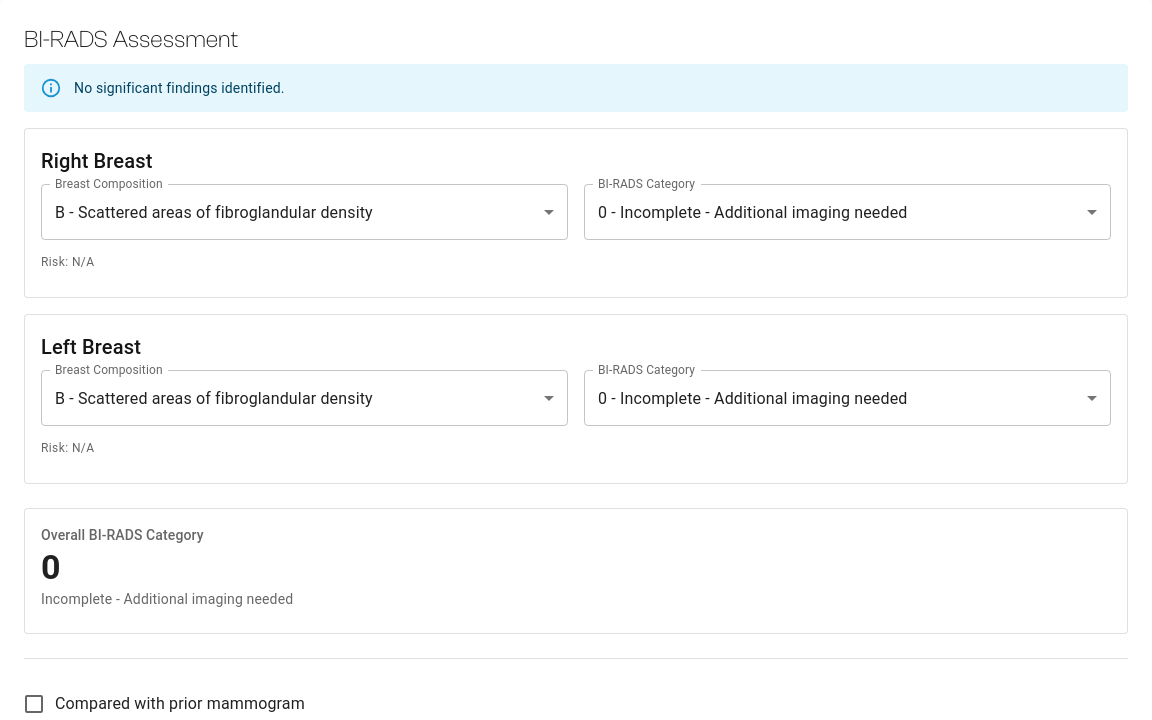
it: BiRadsAssessmentStep BI-RADS Category Selection › should display all BI-RADS categories including 4A/4B/4C
Press the mouse on the dropdown named "BI-RADS Category" at (753, 212), box 598,203 -> 908,222
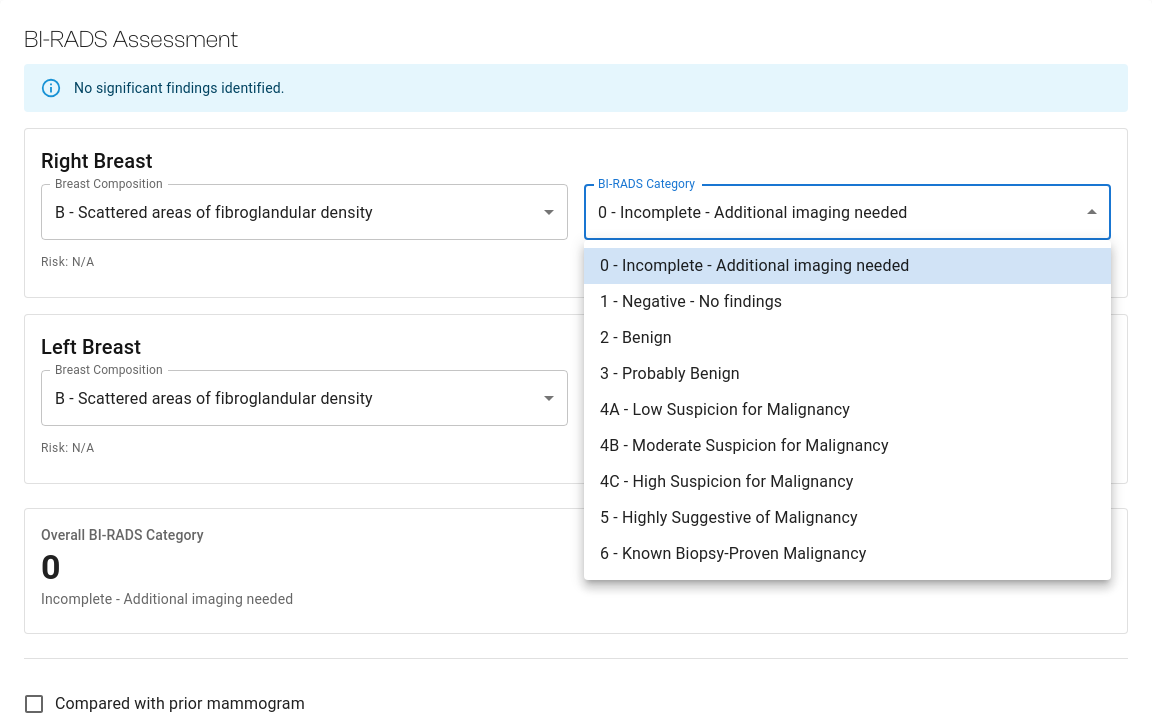
Now the option "0 - Incomplete - Additional imaging needed" is shown, box 584,248 -> 1111,284
Now the option "1 - Negative - No findings" is shown, box 600,292 -> 782,311
Now the option "2 - Benign" is shown, box 600,328 -> 672,347
